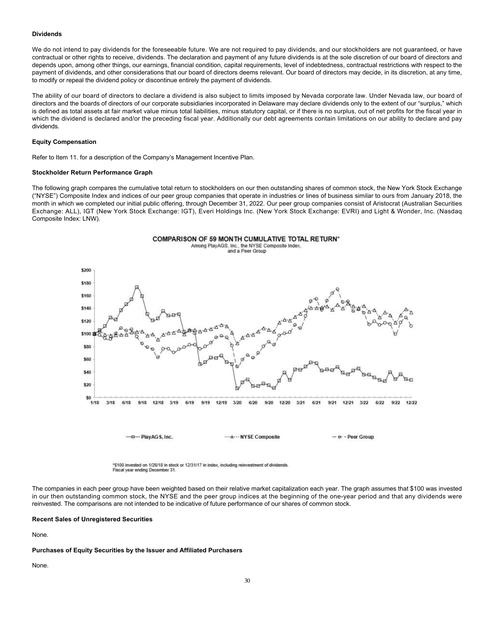box: (80, 234, 418, 474)
